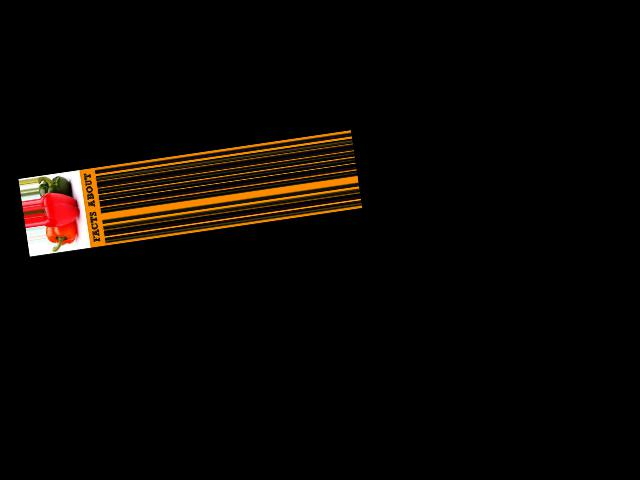bell_pepper: (37, 172, 76, 196)
